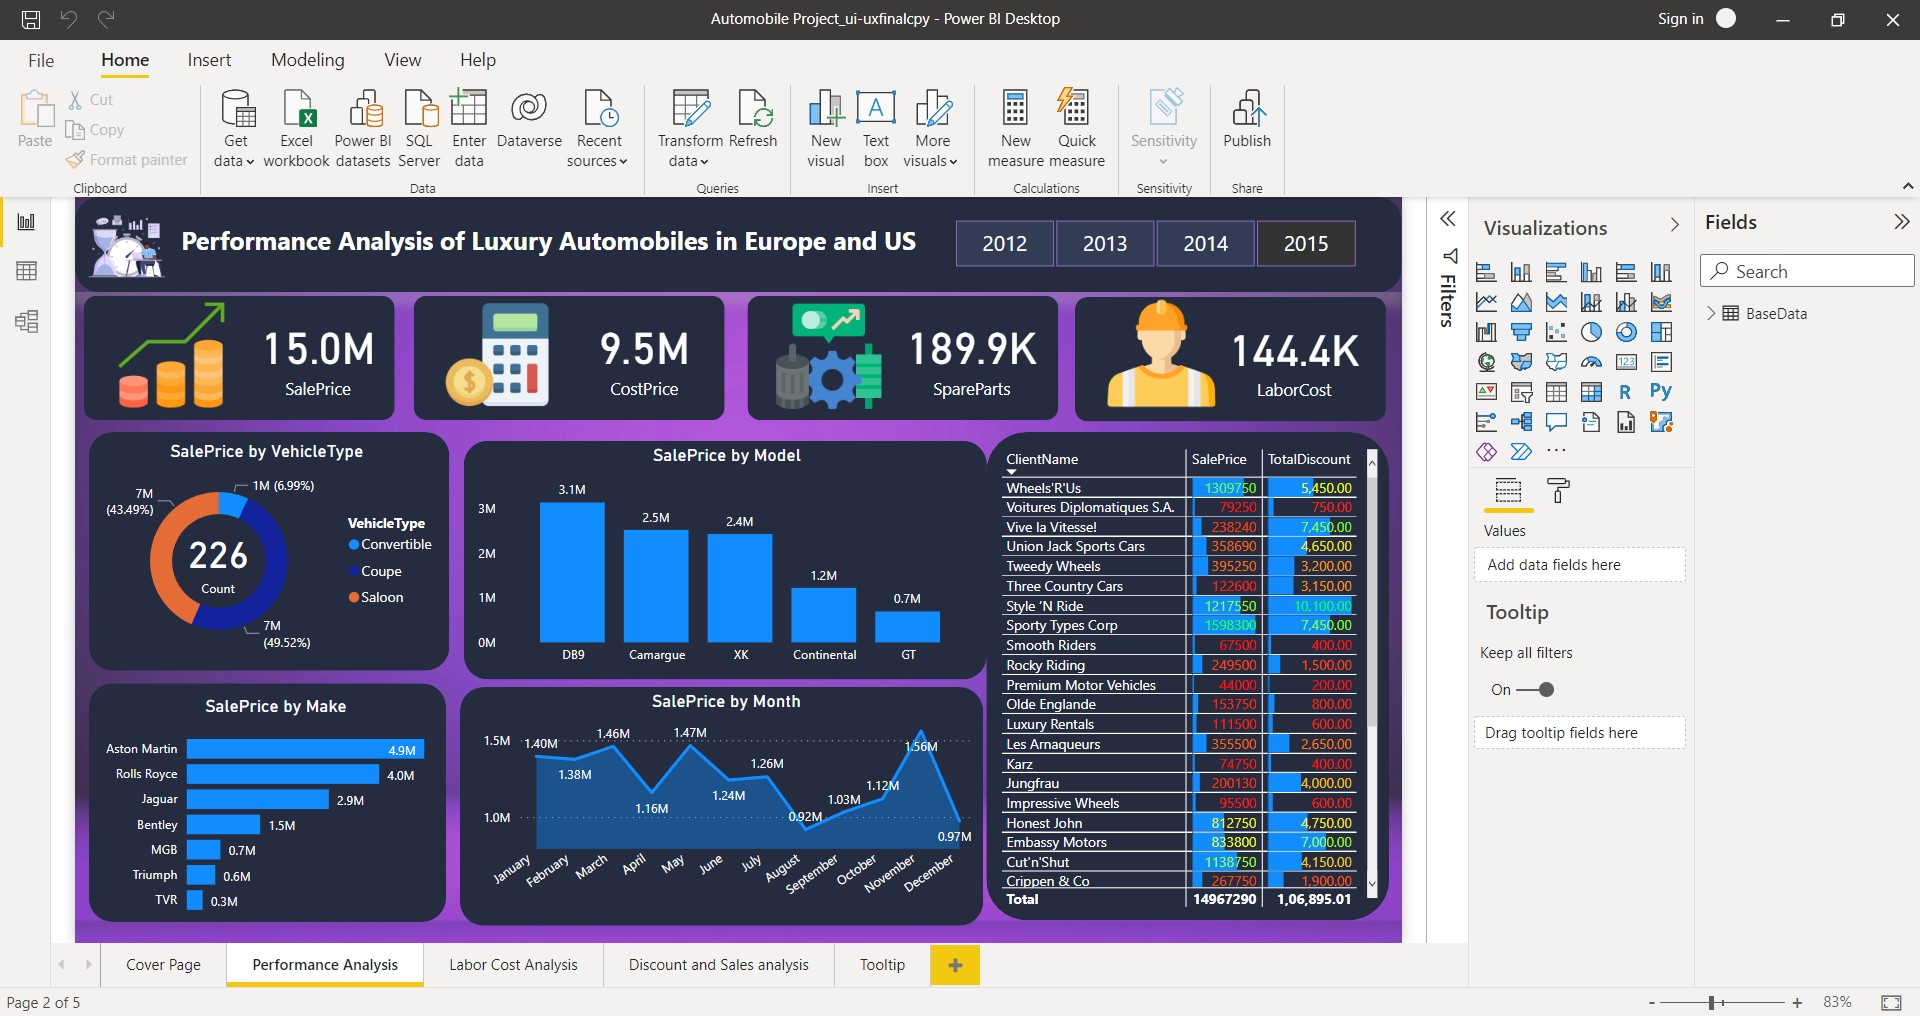

This screenshot's page, from the dashboard's own definition file:
{"tool":"powerbi","page":{"name":"Performance Analysis","canvas":[1280,720],"ordinal":1},"visuals":[{"type":"shape","box":[12.8,227.2,347.9,230.1],"z":0},{"type":"shape","box":[12.8,468.6,345.1,230.1],"z":1000},{"type":"shape","box":[375,235,505,230],"z":2000},{"type":"shape","box":[371.7,473.3,505,230],"z":3000},{"type":"shape","box":[879.7,226.9,388.7,471.3],"z":4000},{"type":"shape","box":[0,0,1280,91.7],"z":5000},{"type":"textbox","box":[51.4,20,810,50],"z":6000},{"type":"slicer","fields":{"Values":["BaseData.ReportingYear"]},"box":[824.3,15.7,435.7,58.6],"z":7000},{"type":"shape","box":[8.3,95,300,120],"z":8000},{"type":"shape","box":[326.7,95,300,120],"z":9000},{"type":"shape","box":[648.3,95,300,120],"z":10000},{"type":"shape","box":[965,96.7,300,120],"z":11000},{"type":"card","fields":{"Values":["BaseData.SalePrice"]},"box":[163.3,99,143.4,107.9],"z":12000},{"type":"card","fields":{"Values":["BaseData.CostPrice"]},"box":[477.2,99,143.4,107.9],"z":13000},{"type":"card","fields":{"Values":["BaseData.SpareParts"]},"box":[793.8,99,143.4,107.9],"z":14000},{"type":"card","fields":{"Values":["BaseData.LaborCost"]},"box":[1105,100,143.3,108.3],"z":15000},{"type":"image","box":[21.3,96.6,142,112.2],"z":16000},{"type":"image","box":[338,98,139.2,109.3],"z":17000},{"type":"image","box":[991.2,89.5,113.6,123.6],"z":18000},{"type":"image","box":[660.4,92.3,132.1,122.1],"z":19000},{"type":"donutChart","fields":{"Series":["BaseData.VehicleType"],"Y":["BaseData.SalePrice"]},"box":[9.9,235.7,350.8,213],"z":20000},{"type":"clusteredBarChart","fields":{"Category":["BaseData.Make"],"Y":["BaseData.SalePrice"]},"box":[18.3,481.7,351.7,221.7],"z":21000},{"type":"clusteredColumnChart","fields":{"Category":["BaseData.Model"],"Y":["BaseData.SalePrice"]},"box":[383.5,238.8,490.9,220.7],"z":22000},{"type":"tableEx","fields":{"Values":["BaseData.ClientName","BaseData.SalePrice","BaseData.TotalDiscount"]},"box":[887.9,238.5,373.5,451.5],"z":23000},{"type":"card","fields":{"Values":["BaseData.VehicleType"]},"box":[98,308.2,80.9,83.8],"z":24000},{"type":"areaChart","fields":{"Category":["BaseData.InvoiceDate.Variation.Date Hierarchy.Month"],"Y":["BaseData.SalePrice"]},"box":[383.3,476.7,490,218.3],"z":25000},{"type":"image","box":[2.9,0,95.7,95.7],"z":26000}]}

Visuals, with their boxes on the page's 1280x720 design canvas (x1, y1, x2, y2). These are canvas units, not pixel positions in the 1920x1016 screenshot, which may show the page scaled, cropped or inside an application window:
shape: <region>13, 227, 361, 457</region>
shape: <region>13, 469, 358, 699</region>
shape: <region>375, 235, 880, 465</region>
shape: <region>372, 473, 877, 703</region>
shape: <region>880, 227, 1268, 698</region>
shape: <region>0, 0, 1280, 92</region>
textbox: <region>51, 20, 861, 70</region>
slicer - BaseData.ReportingYear: <region>824, 16, 1260, 74</region>
shape: <region>8, 95, 308, 215</region>
shape: <region>327, 95, 627, 215</region>
shape: <region>648, 95, 948, 215</region>
shape: <region>965, 97, 1265, 217</region>
card - BaseData.SalePrice: <region>163, 99, 307, 207</region>
card - BaseData.CostPrice: <region>477, 99, 621, 207</region>
card - BaseData.SpareParts: <region>794, 99, 937, 207</region>
card - BaseData.LaborCost: <region>1105, 100, 1248, 208</region>
image: <region>21, 97, 163, 209</region>
image: <region>338, 98, 477, 207</region>
image: <region>991, 90, 1105, 213</region>
image: <region>660, 92, 792, 214</region>
donutChart - BaseData.VehicleType x BaseData.SalePrice: <region>10, 236, 361, 449</region>
clusteredBarChart - BaseData.Make x BaseData.SalePrice: <region>18, 482, 370, 703</region>
clusteredColumnChart - BaseData.Model x BaseData.SalePrice: <region>384, 239, 874, 460</region>
tableEx - BaseData.ClientName x BaseData.SalePrice: <region>888, 238, 1261, 690</region>
card - BaseData.VehicleType: <region>98, 308, 179, 392</region>
areaChart - BaseData.InvoiceDate.Variation.Date Hierarchy.Month x BaseData.SalePrice: <region>383, 477, 873, 695</region>
image: <region>3, 0, 99, 96</region>
